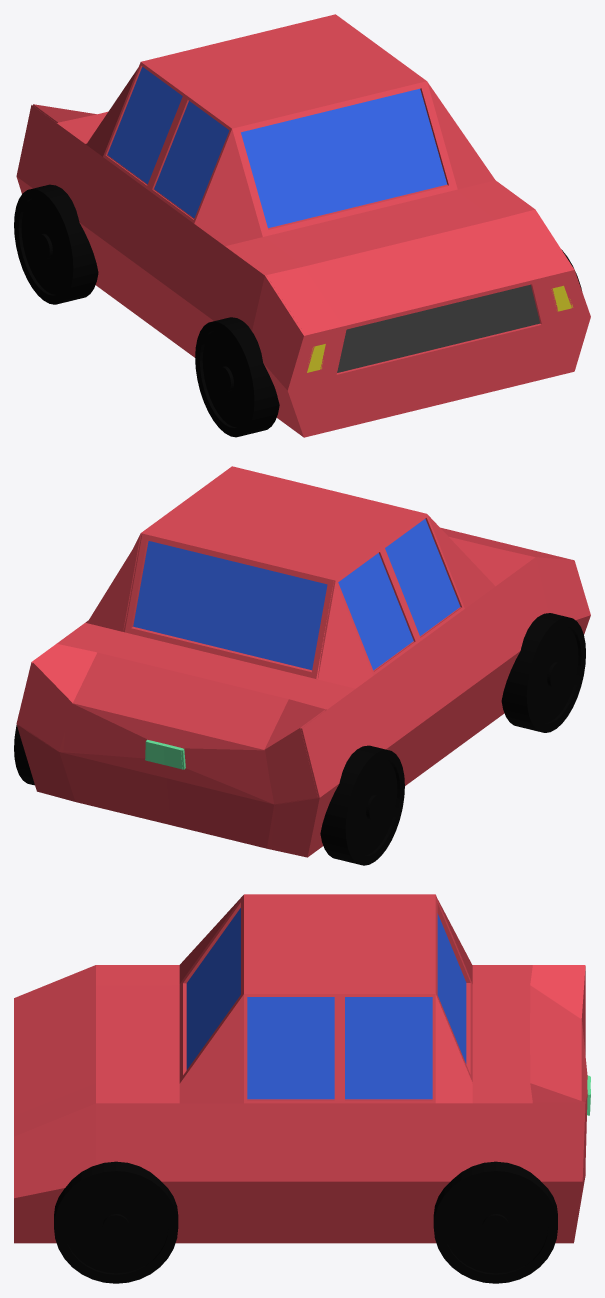
File: testcar.fbx
3 views of the same model, one above another, from view 1: azimuth 30°, elevation 25°; view 2: azimuth 150°, elevation 25°; view 3: azimuth 270°, elevation 25° (orthographic). The views are drawn at different scales.
Parts seen in each view (by area): view 1: Car; view 2: Car; view 3: Car.
Part boxes in pixels (x1,y1,x2,y2): Car: (14,14,590,437); Car: (14,466,590,865); Car: (14,894,590,1283).
Size of the model in its own units: 646 by 452 by 928.
